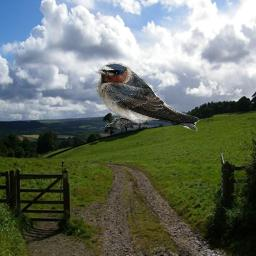Swallow: (94, 62, 200, 132)
